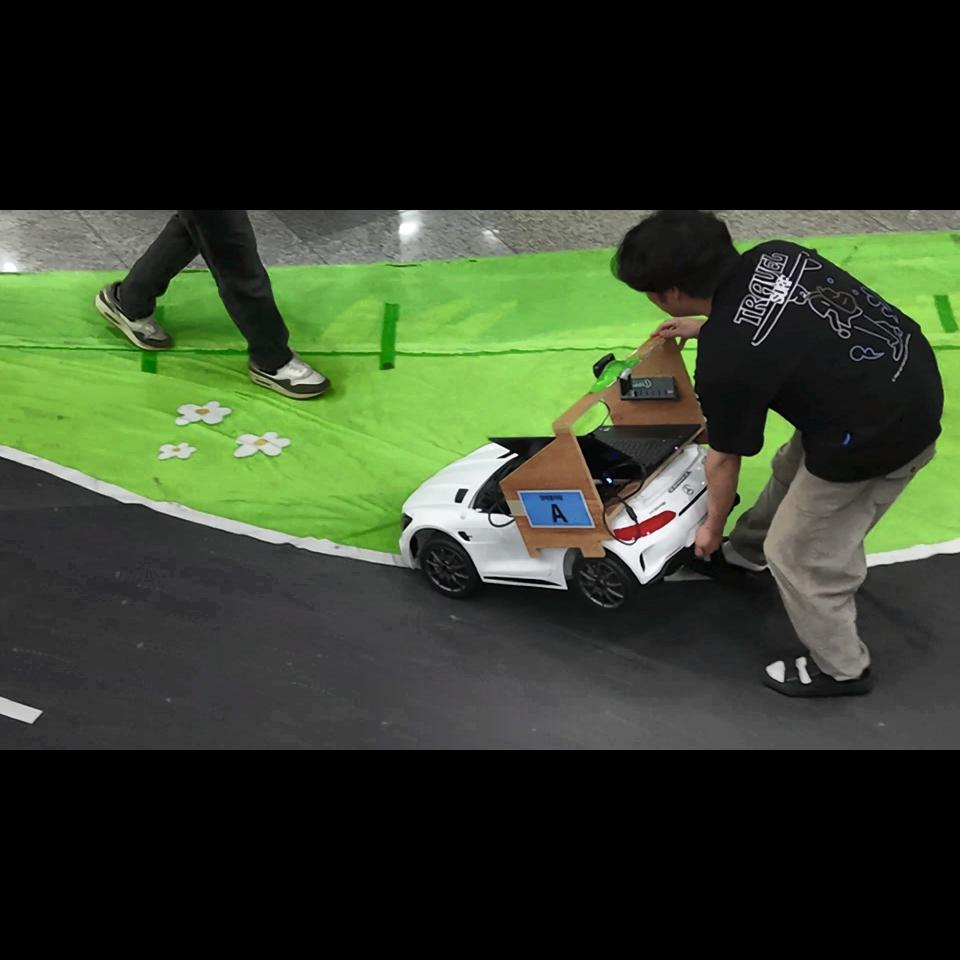broken_line: (0, 696, 43, 724)
